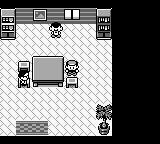leer: (34, 9, 47, 20)
main: (65, 60, 80, 76)
no-caminable: (0, 0, 159, 143), (32, 56, 64, 87), (48, 8, 96, 24), (96, 104, 112, 136), (0, 9, 16, 39), (96, 9, 111, 39), (16, 8, 33, 23)
npc: (48, 22, 64, 38), (18, 70, 30, 86)
puerta: (12, 121, 52, 135)
